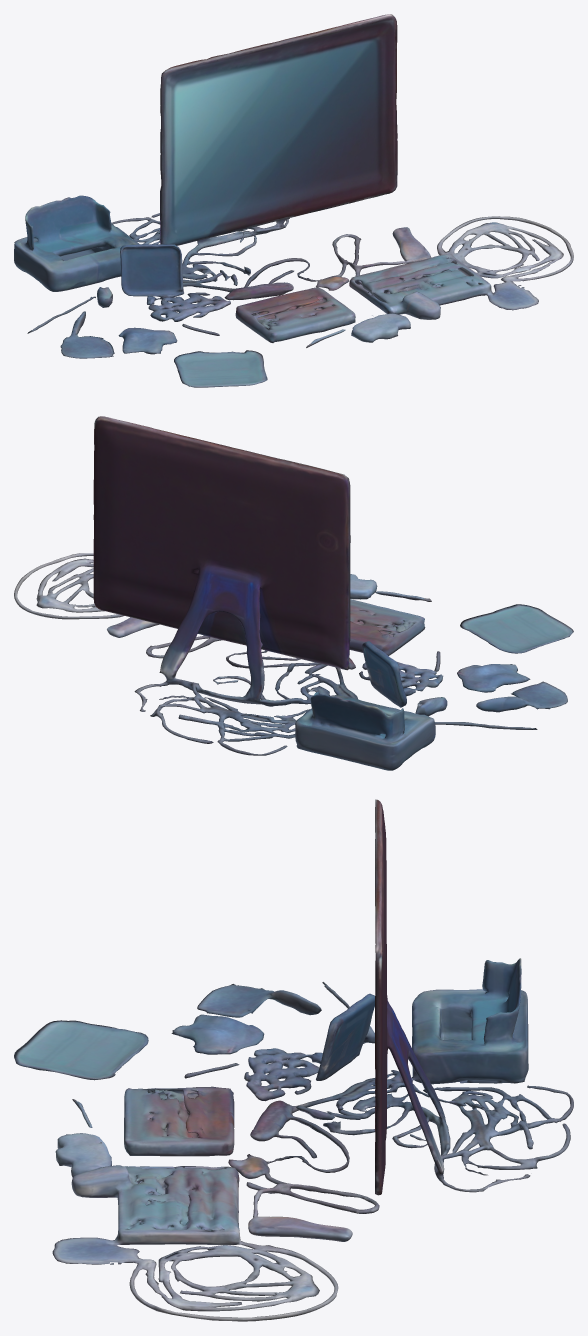
Rendered from perangkat_komputer.glb.
3 views of the same model, one above another, from view 1: azimuth 30°, elevation 25°; view 2: azimuth 150°, elevation 25°; view 3: azimuth 270°, elevation 25° (orthographic). The views are drawn at different scales.
Visible parts, largest first — view 1: Object_4; view 2: Object_4; view 3: Object_4.
Boxes of the visible parts, left/top/right/bottom form: Object_4: left=14, top=14, right=573, bottom=387; Object_4: left=14, top=416, right=573, bottom=770; Object_4: left=14, top=799, right=573, bottom=1321.
Size of the model in its own units: 4.47 by 1.82 by 3.14.
Materials: 1 (1 with a texture image).
